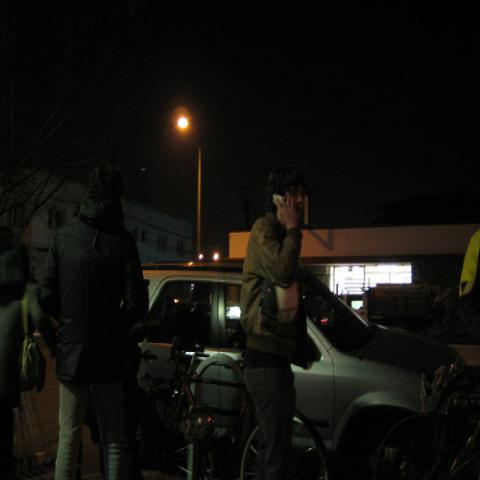car: (290, 280, 427, 469)
